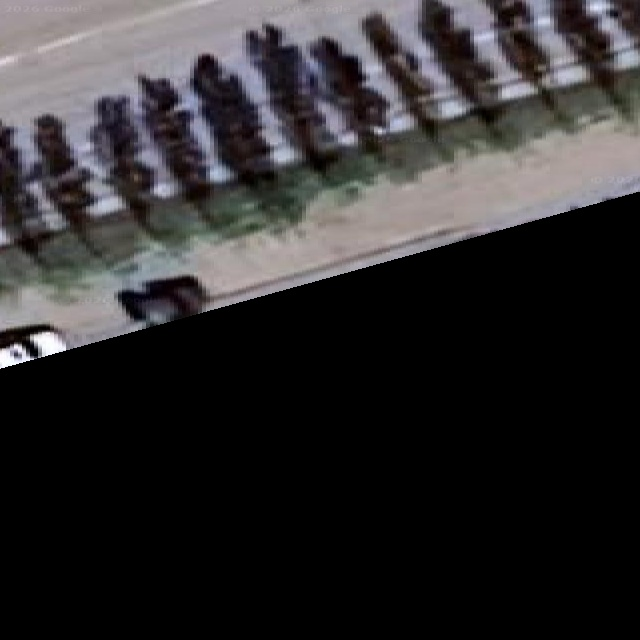car: (116, 276, 209, 325), (0, 325, 69, 367)
